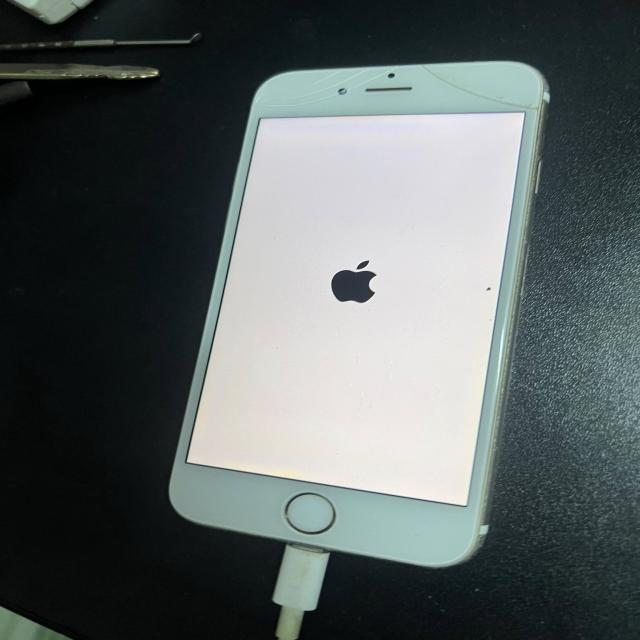gen_7_8: (157, 55, 551, 570)
